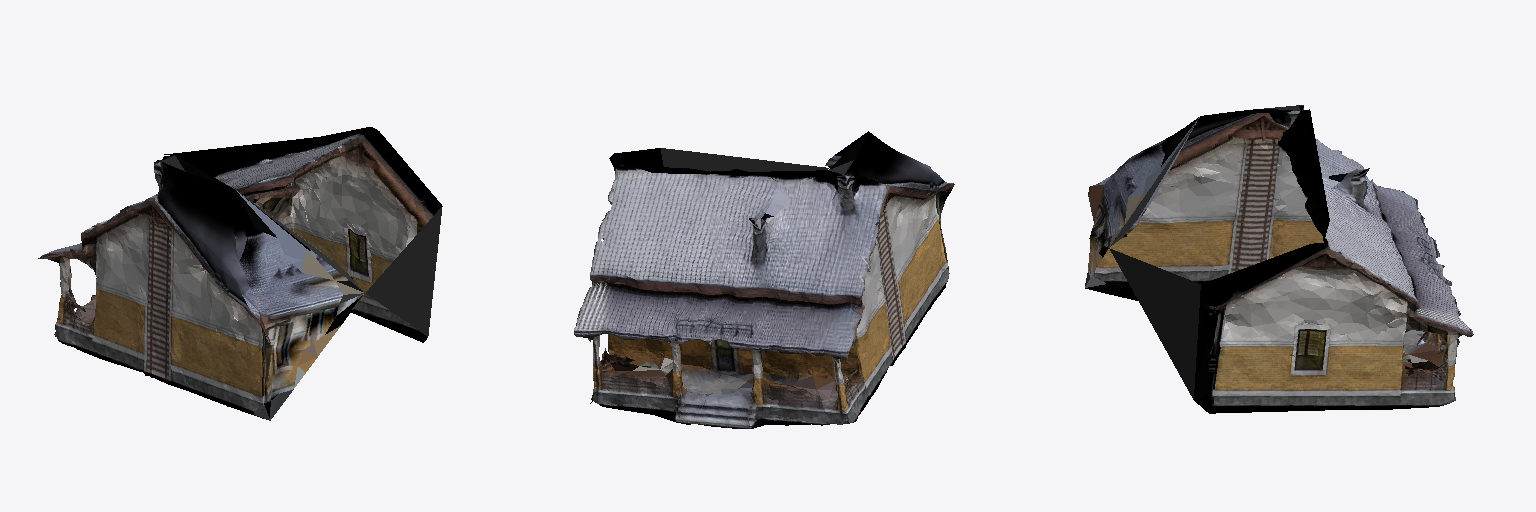
The picture shows the model from 3 angles: view 1: azimuth 30°, elevation 25°; view 2: azimuth 150°, elevation 25°; view 3: azimuth 270°, elevation 25°; orthographic projection.
Bounding box in the file's own units: 12.7 × 8.89 × 14.26.
Materials: 1 (1 with a texture image).